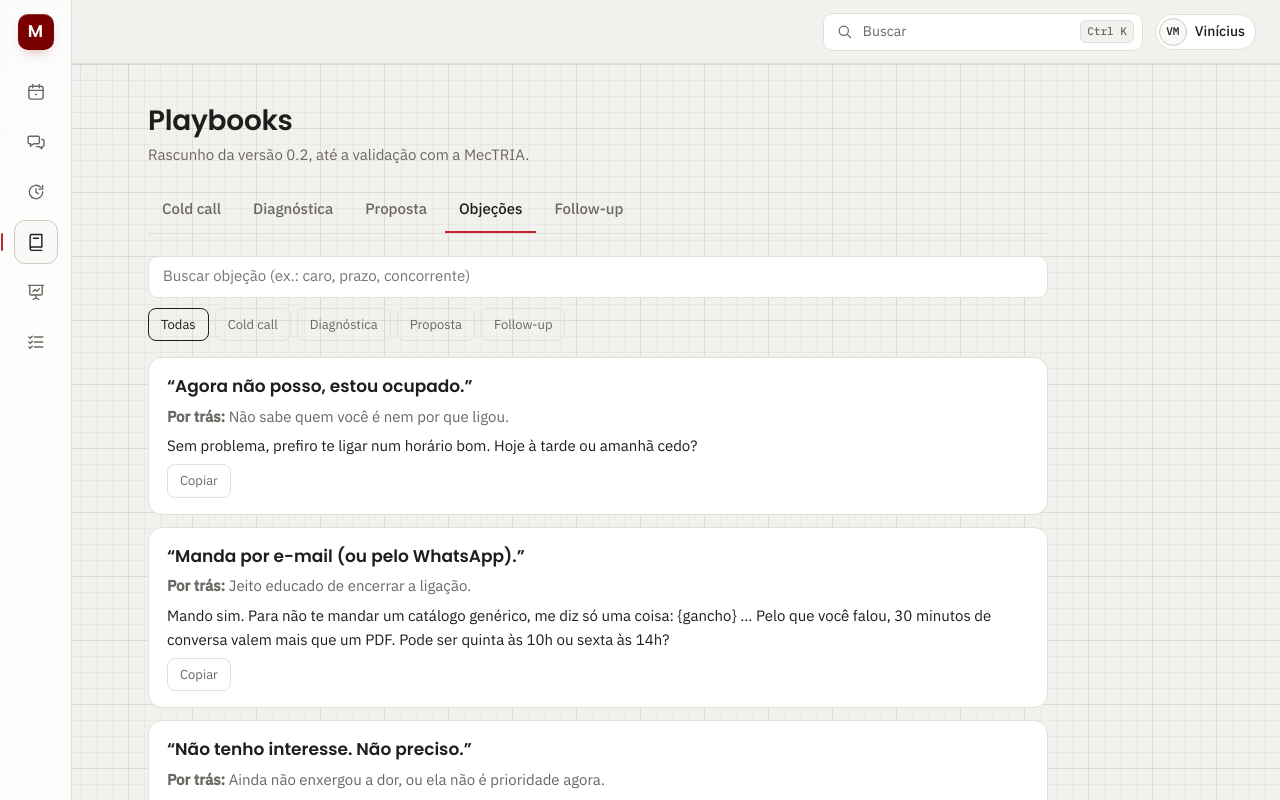
it: busca de objeção sem acento e sem caixa
Type "ESTA CARO" into the search field labelled "Buscar objeção" at {"x": 598, "y": 277}, box [148,256,1048,298]
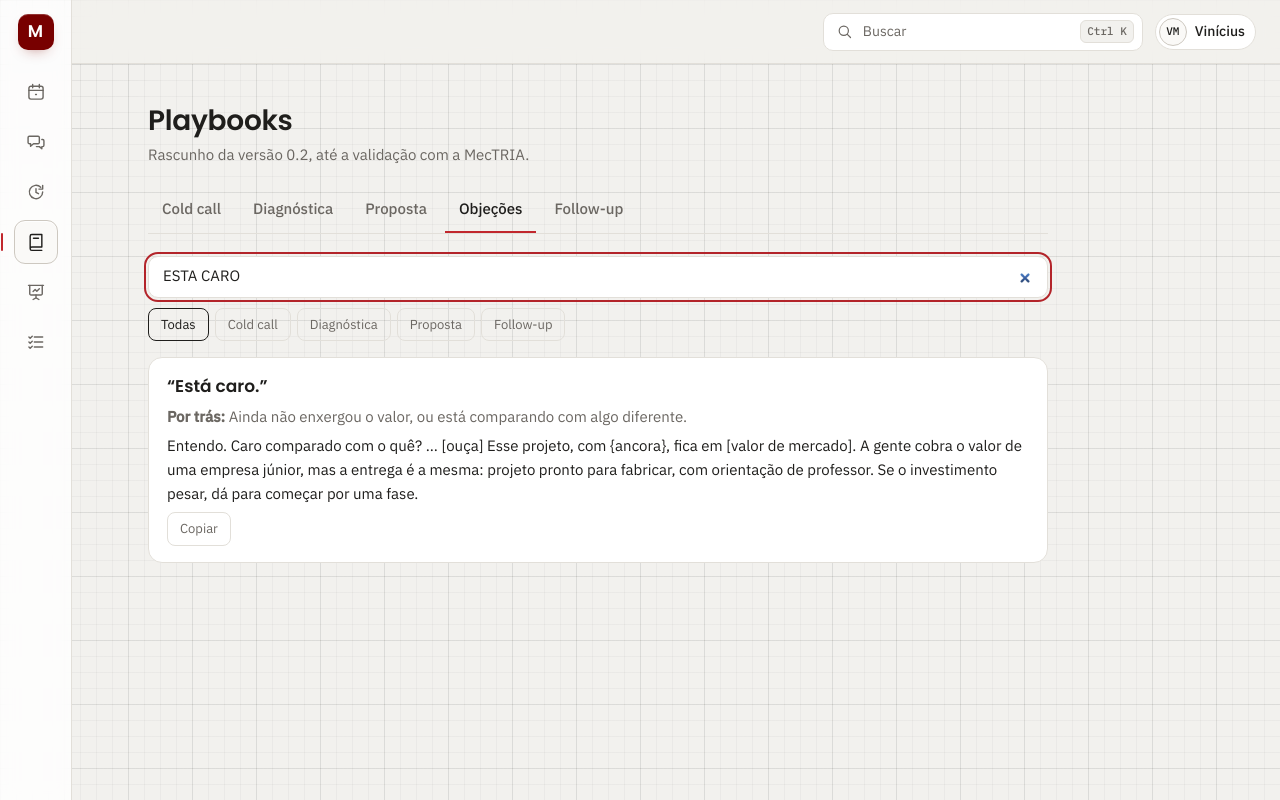
expect the list named "Objeções" shows "Está caro.": met, box [175,374,260,398]
